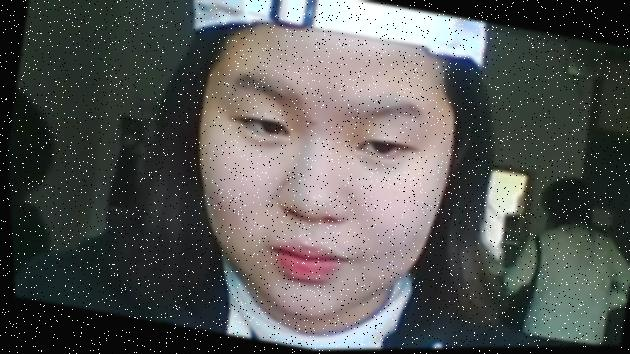eye: (259, 114, 282, 135), (368, 135, 391, 155)
iris: (238, 116, 289, 140), (353, 136, 401, 160)
